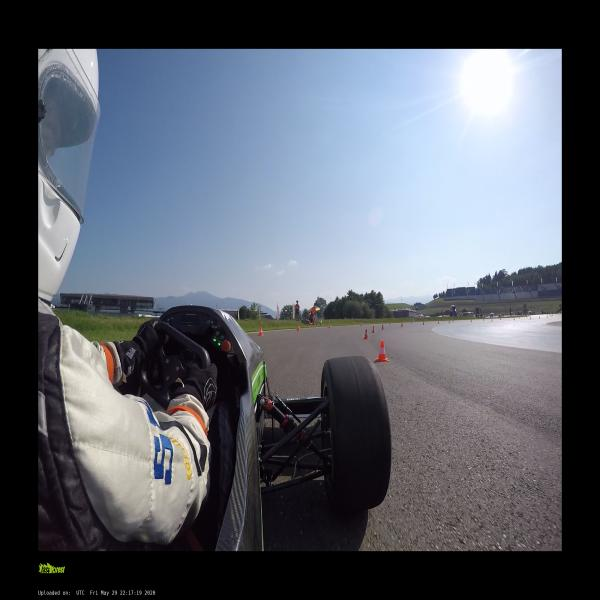orange_cone: (377, 340, 388, 361), (258, 327, 263, 336), (364, 329, 368, 339), (371, 326, 375, 333), (381, 324, 384, 330), (298, 324, 300, 330), (309, 320, 310, 325), (329, 324, 330, 328), (401, 323, 402, 327), (361, 323, 362, 326)
